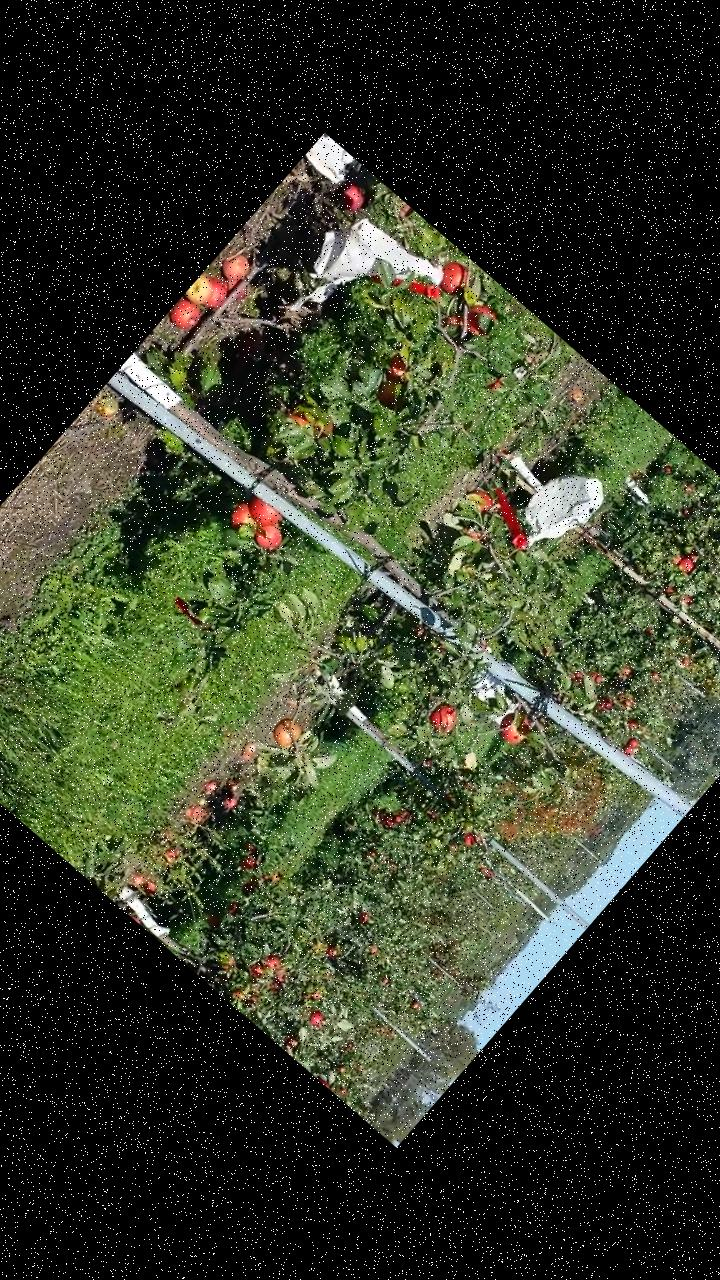Apple: (492, 704, 540, 751), (457, 296, 502, 342), (432, 256, 477, 301), (424, 696, 468, 739), (242, 492, 285, 534), (267, 714, 307, 754), (250, 517, 288, 557), (370, 377, 408, 415), (225, 500, 263, 538), (465, 483, 500, 518), (382, 352, 417, 387), (286, 405, 316, 433), (441, 310, 468, 336)
